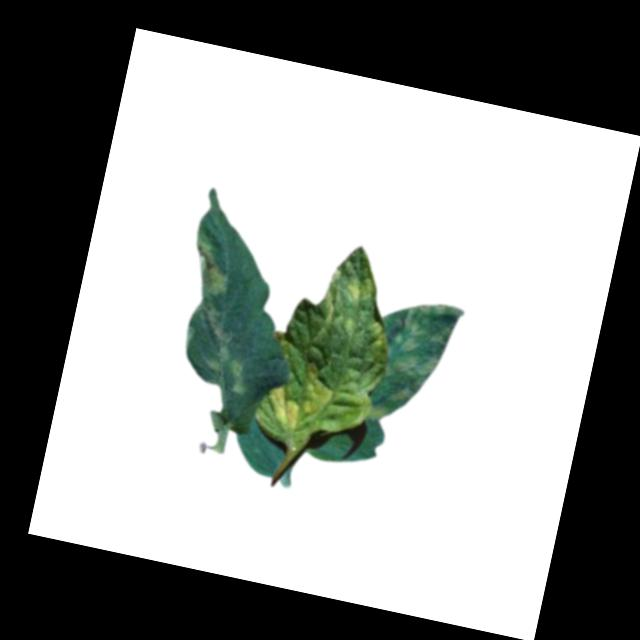Leaf_Mold: (366, 291, 463, 431), (183, 234, 236, 302), (253, 378, 304, 435), (300, 358, 340, 419), (220, 356, 253, 399), (345, 272, 375, 304)
